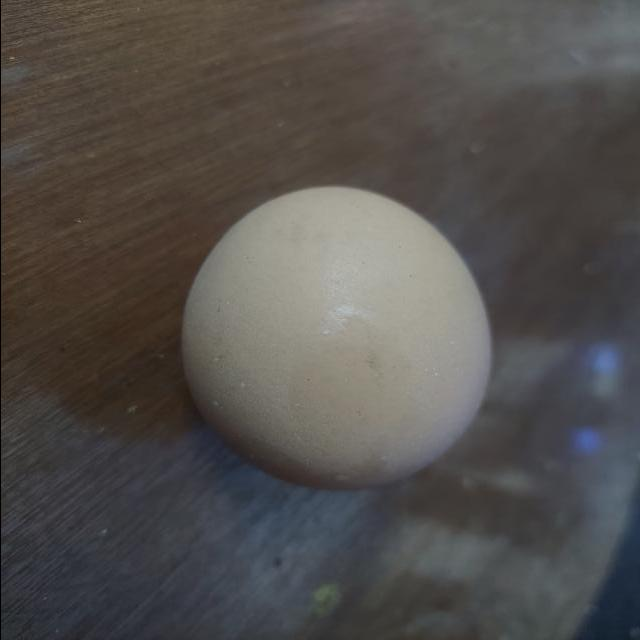egg: (175, 184, 503, 503)
